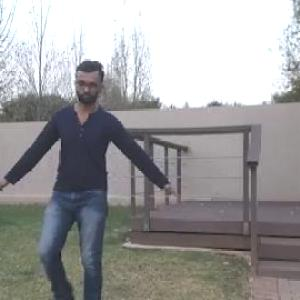land: (11, 74, 155, 299)
